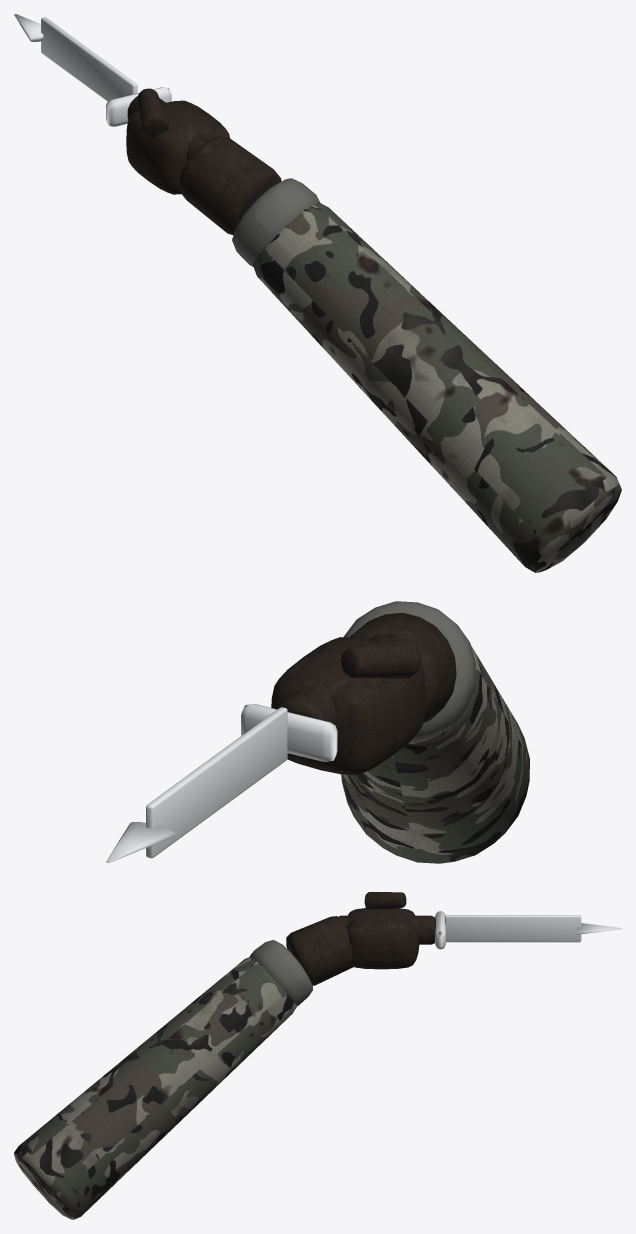
File: vm_knife.glb
3 renders of one model, top to bottom at view 1: azimuth 30°, elevation 25°; view 2: azimuth 150°, elevation 25°; view 3: azimuth 270°, elevation 25°, orthographic. The views are drawn at different scales.
Parts seen in each view (by area): view 1: Forearm, Wrist, Fist, Cuff, Blade, Thumb, Guard; view 2: Forearm, Fist, Blade, Cuff, Wrist, Thumb, Guard, Handle, Tip; view 3: Forearm, Fist, Blade, Wrist, Cuff, Thumb, Handle.
Part boxes in pixels (box(x1,y1,x2,y2)): Forearm: box(253, 202, 621, 572); Wrist: box(179, 136, 281, 235); Fist: box(126, 100, 229, 194); Cuff: box(232, 178, 320, 266); Blade: box(41, 17, 137, 101); Thumb: box(137, 88, 168, 138); Guard: box(106, 87, 171, 126); Forearm: box(341, 646, 529, 863); Fist: box(271, 637, 425, 775); Blade: box(146, 707, 287, 858); Cuff: box(343, 601, 475, 743); Wrist: box(349, 612, 456, 723); Thumb: box(341, 638, 420, 678); Guard: box(241, 704, 337, 761); Handle: box(277, 633, 401, 725); Tip: box(106, 822, 176, 862); Forearm: box(14, 957, 296, 1219); Fist: box(347, 908, 419, 969); Blade: box(445, 915, 581, 942); Wrist: box(286, 916, 353, 985); Cuff: box(249, 940, 312, 1006); Thumb: box(364, 892, 406, 909); Handle: box(338, 915, 435, 944).
Size of the model in its own units: 0.2438 by 0.3165 by 0.6701.
5 materials, 3 textured.
